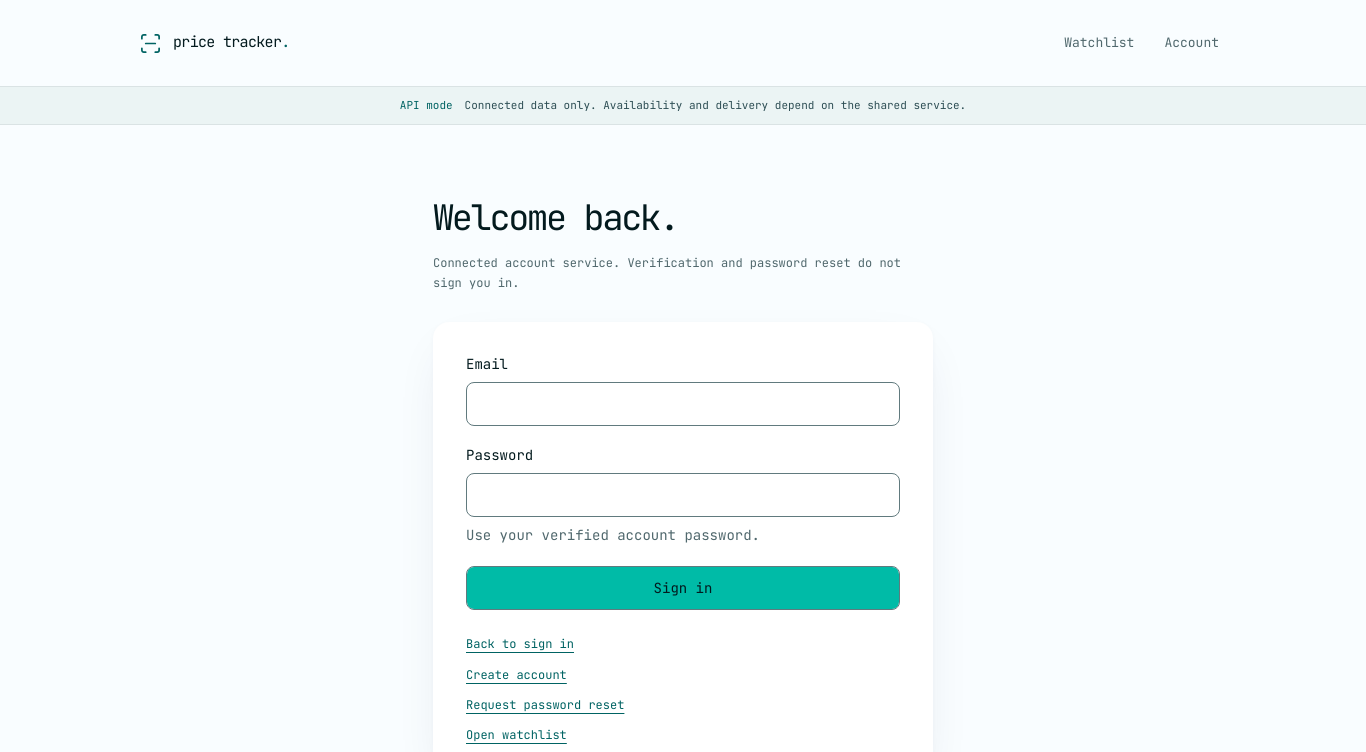
Test case: real cookie session screens › shows EMAIL_UNVERIFIED and generic account email responses without pretending sign-in
The width and height of the screenshot is (1366, 752).
Check: the heading "Welcome back." is shown, box x1=433 y1=194 x2=678 y2=241
Type "player@example.com" into the field labelled "Email". click: {"x": 683, "y": 404}
box: x1=466 y1=382 x2=900 y2=426
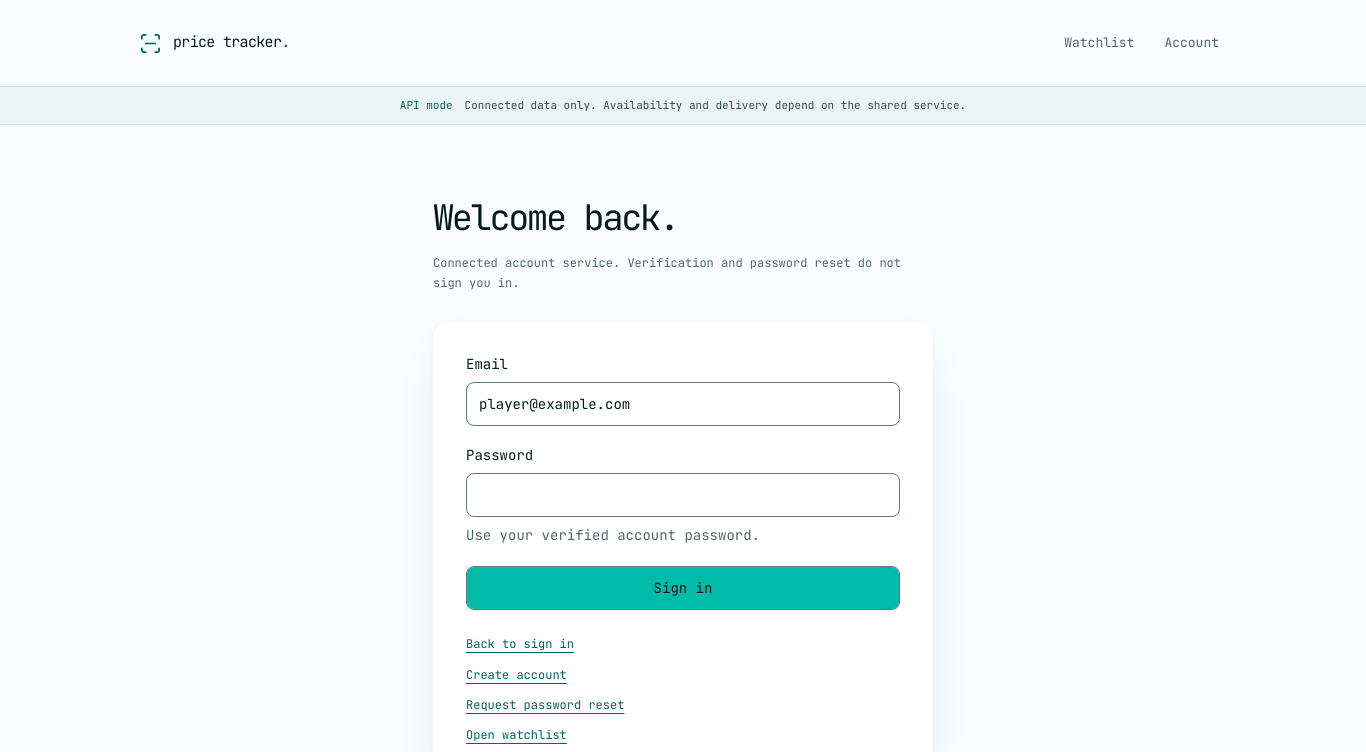
Type "password" into the password field labelled "Password". click: {"x": 683, "y": 495}
box: x1=466 y1=473 x2=900 y2=517
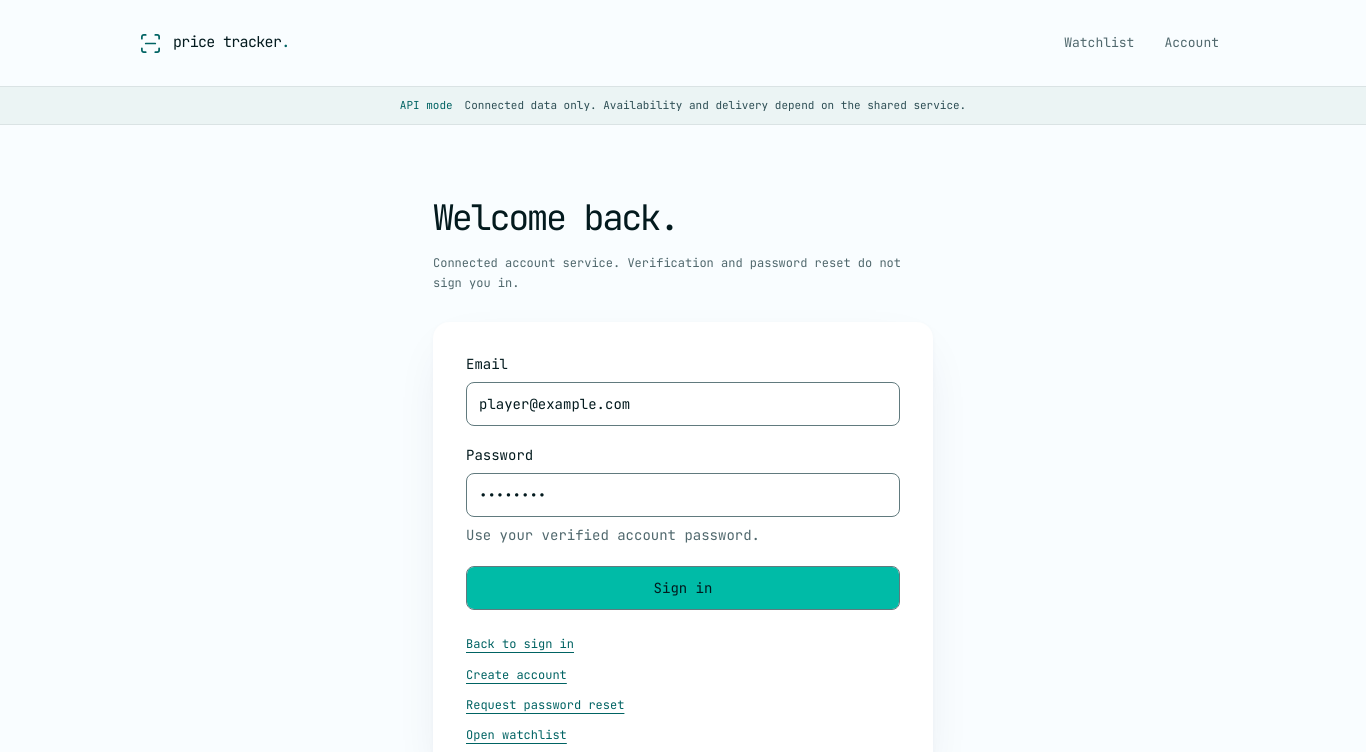
Click the button "Sign in". click: {"x": 683, "y": 588}
box: x1=466 y1=566 x2=900 y2=610
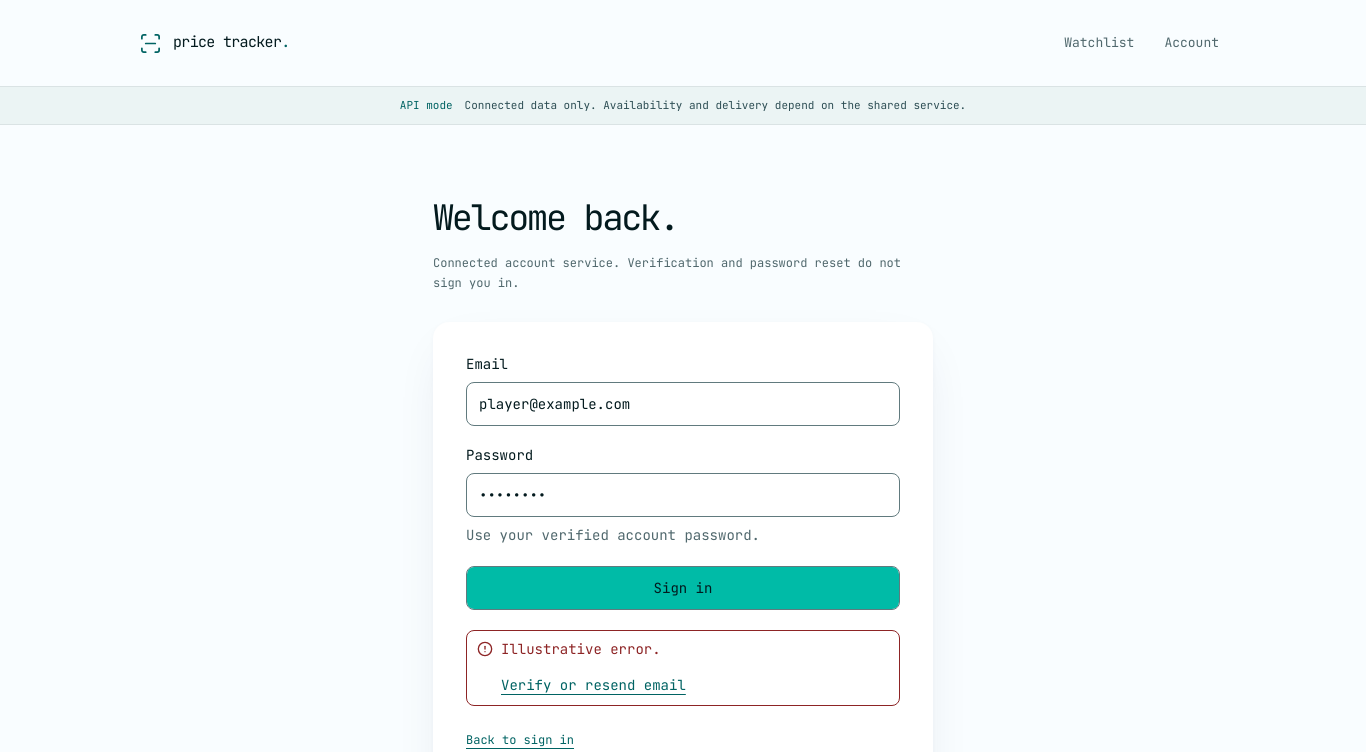
Click the link "Verify or resend email". click: {"x": 593, "y": 685}
box: x1=501 y1=676 x2=686 y2=694
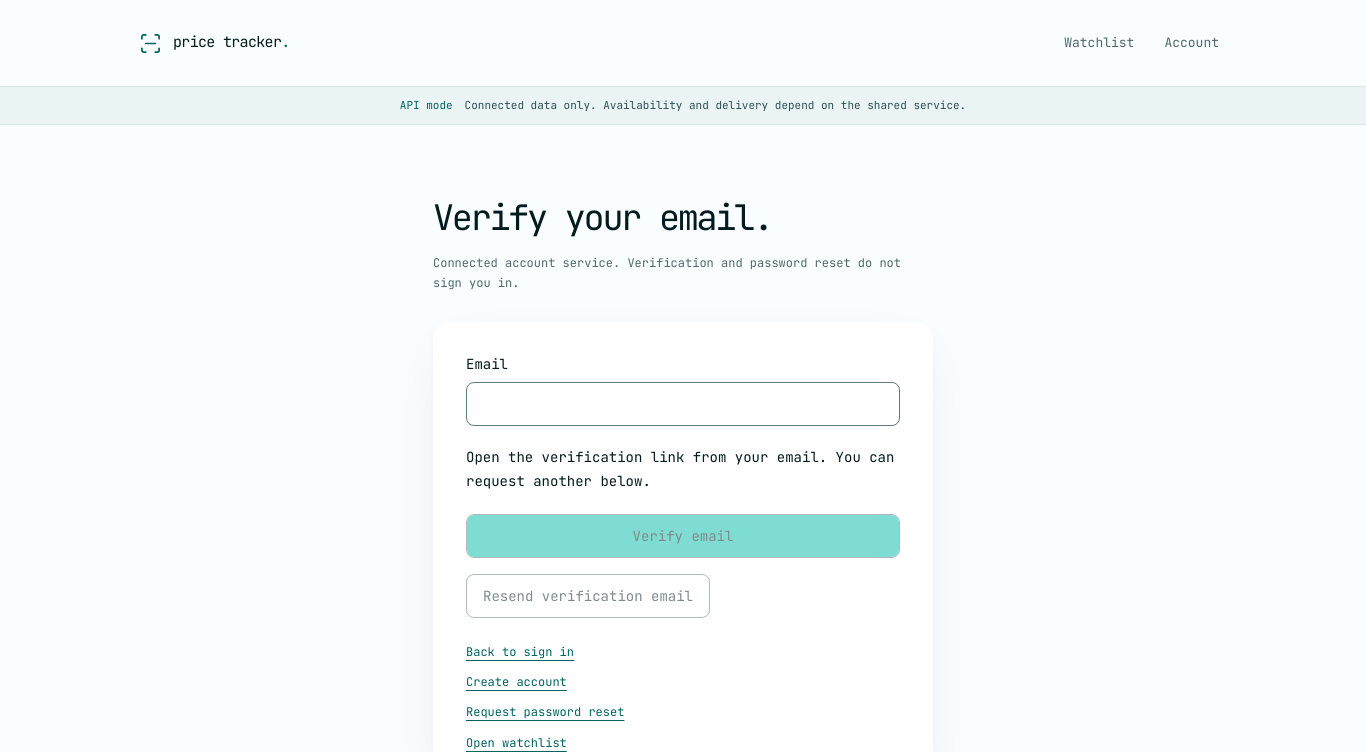
Type "player@example.com" into the field labelled "Email". click: {"x": 683, "y": 404}
box: x1=466 y1=382 x2=900 y2=426
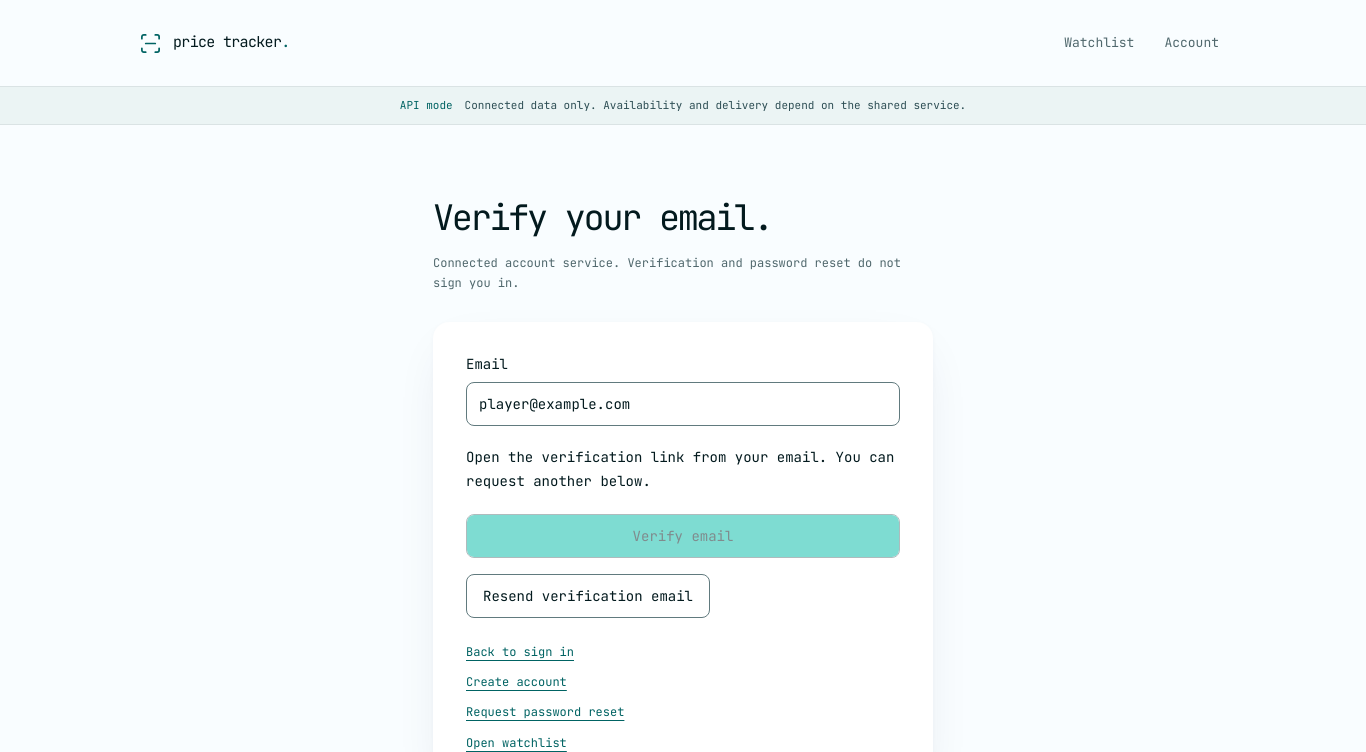
Click the button "Resend verification email". click: {"x": 588, "y": 596}
box: x1=466 y1=574 x2=710 y2=618
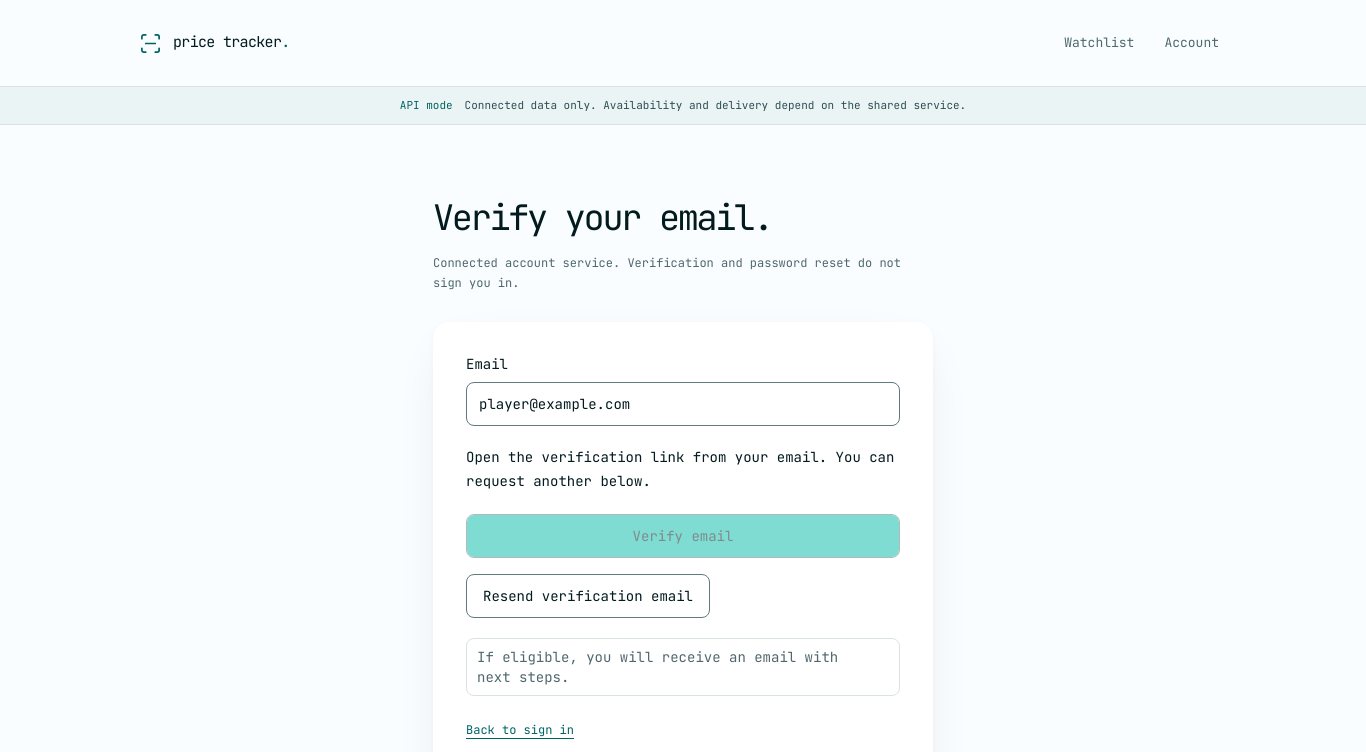
Check: the text "If eligible, you will receive an email with next steps." is shown, box x1=477 y1=646 x2=889 y2=686
